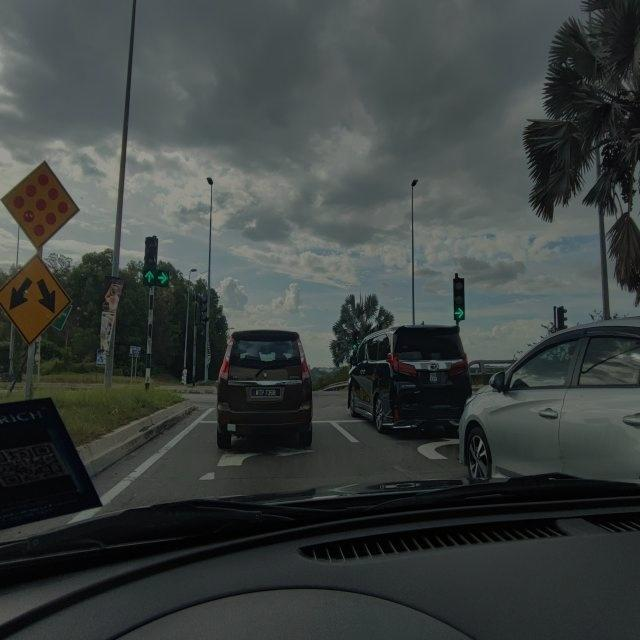Green: (155, 236, 170, 286), (144, 237, 158, 286), (452, 276, 465, 322)
